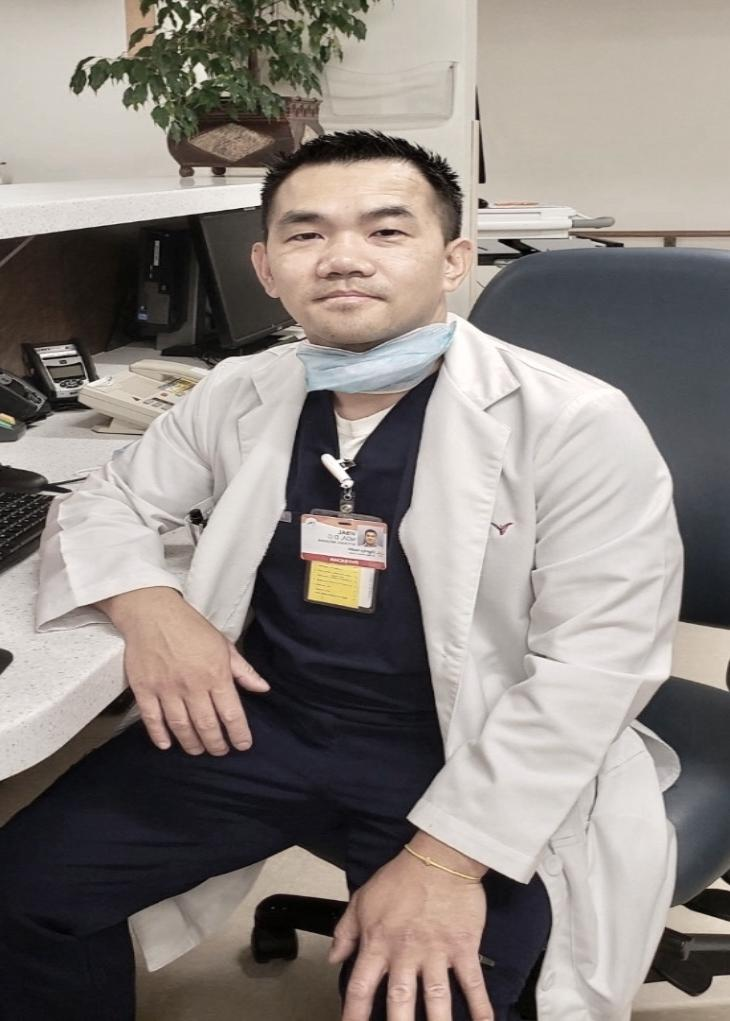mask_weared_incorrect: (254, 130, 473, 366)
